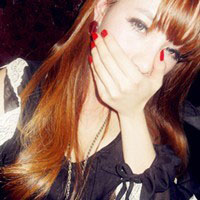face: (88, 1, 194, 104)
